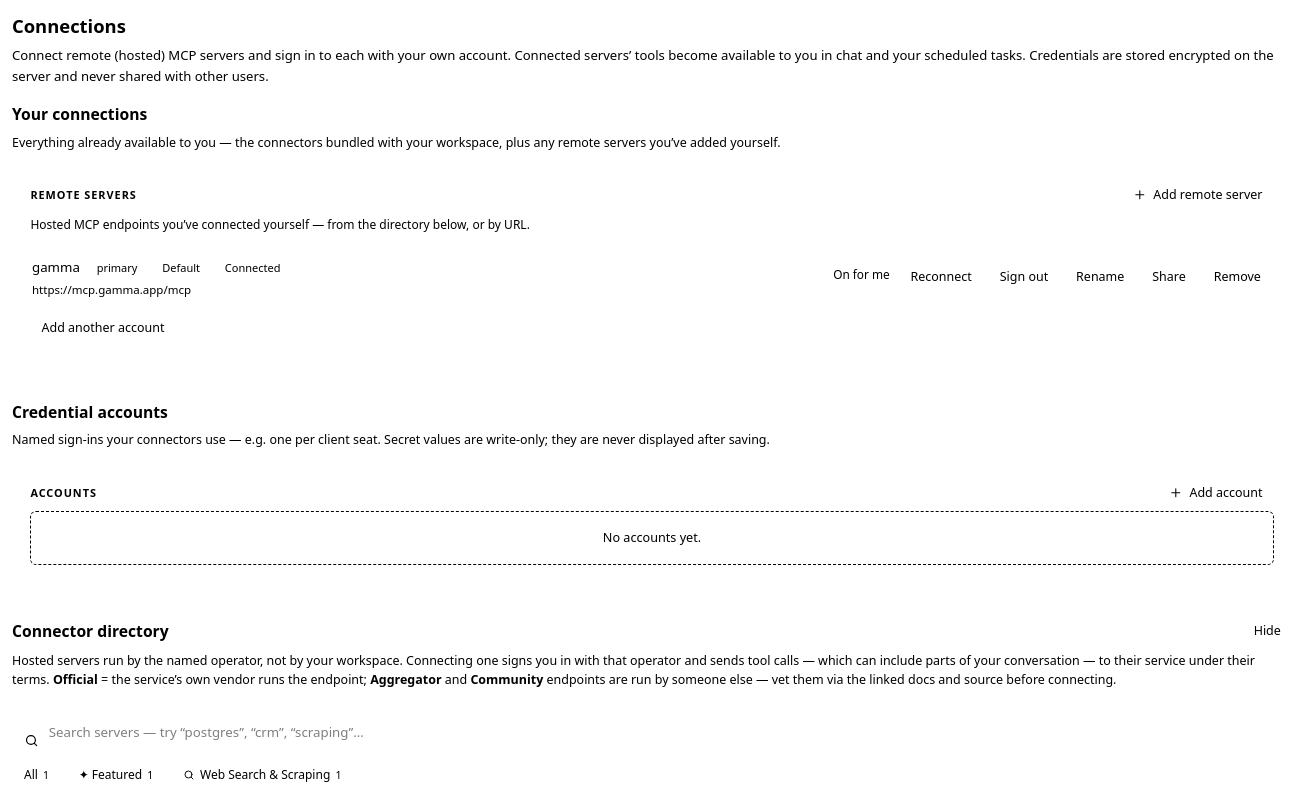
Test: ConnectionsPage multi-login seats › subscribes the OAuth-return focus refresh once, not on every render
The width and height of the screenshot is (1304, 812).
Click the button "Share" at x=1169, y=278, box [1141,264,1197,292]
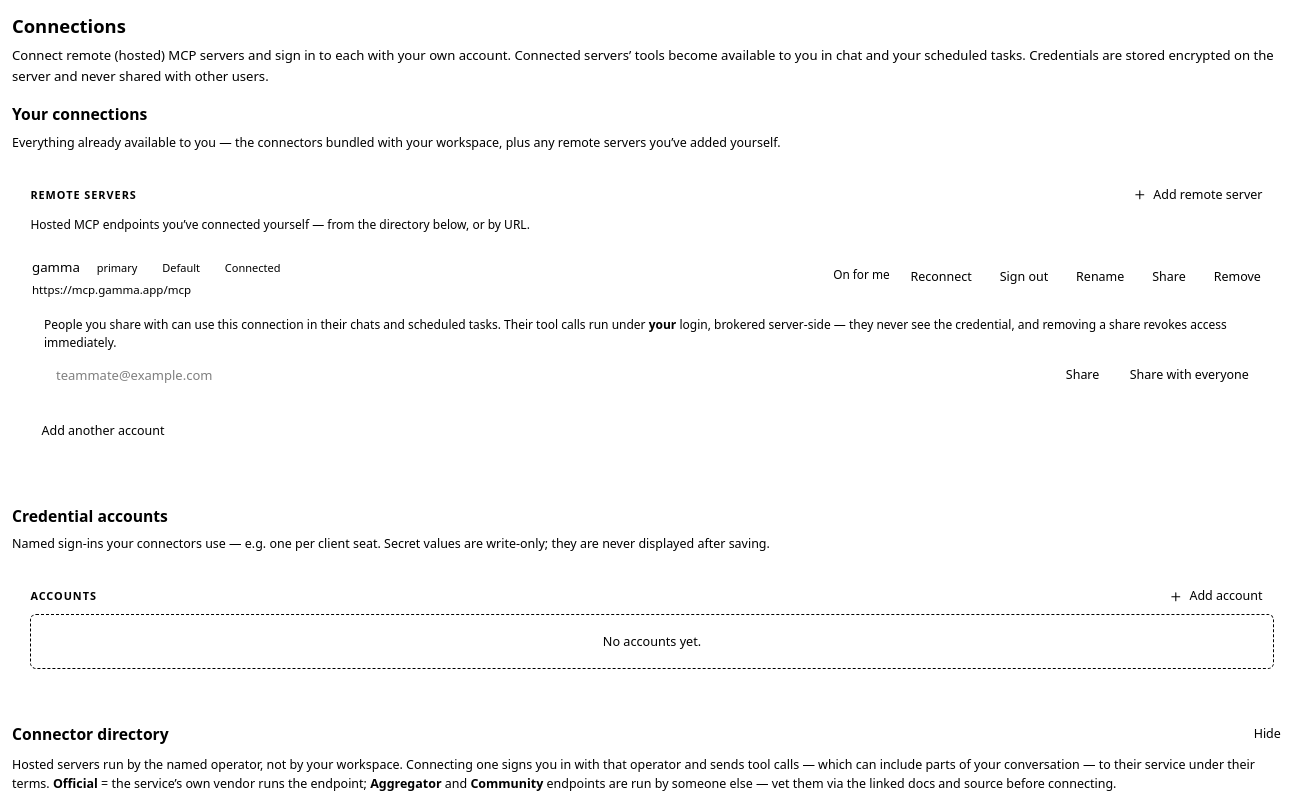
Expected: the button with test id "share-everyone-g1" is shown, [1118,362,1260,390]
Click the button "Share" in the row of "Default" at x=1169, y=278, box [1141,264,1197,292]
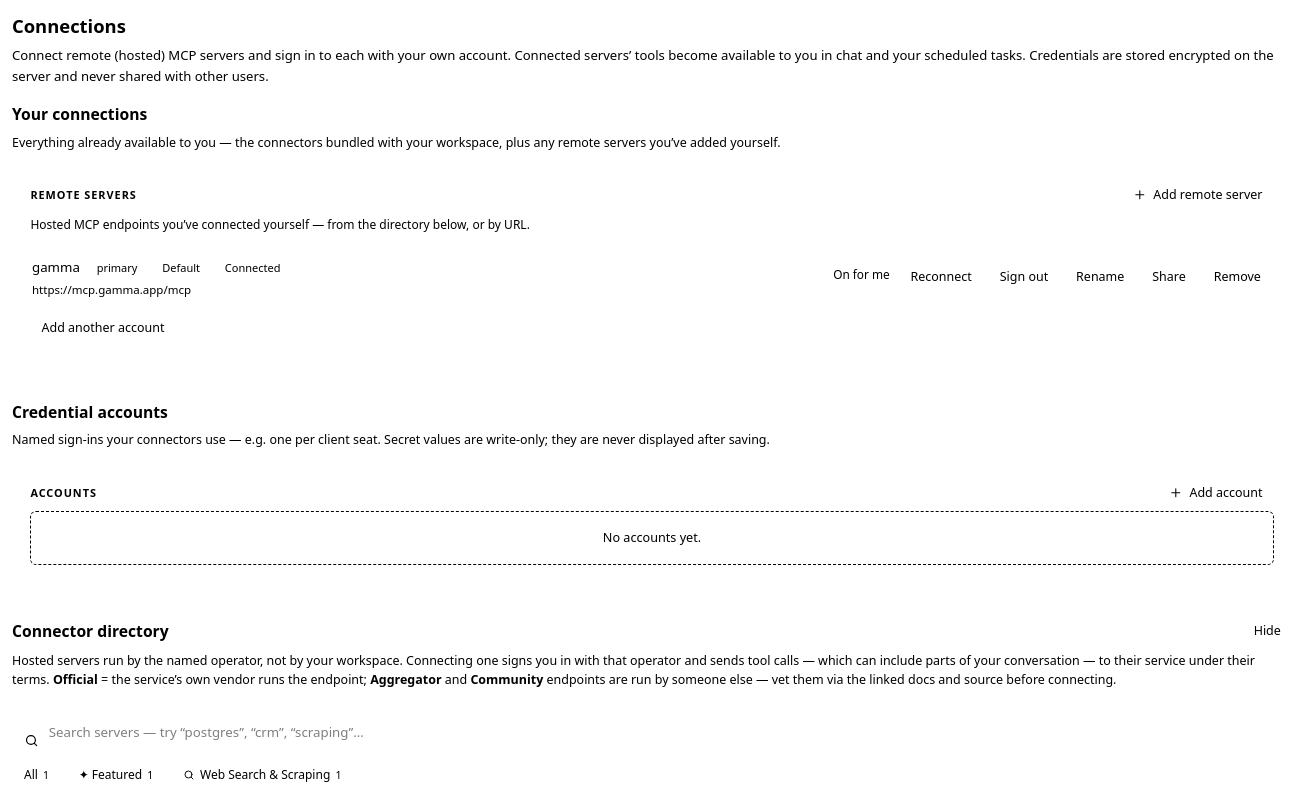
Expected: the button with test id "share-everyone-g1" is gone
